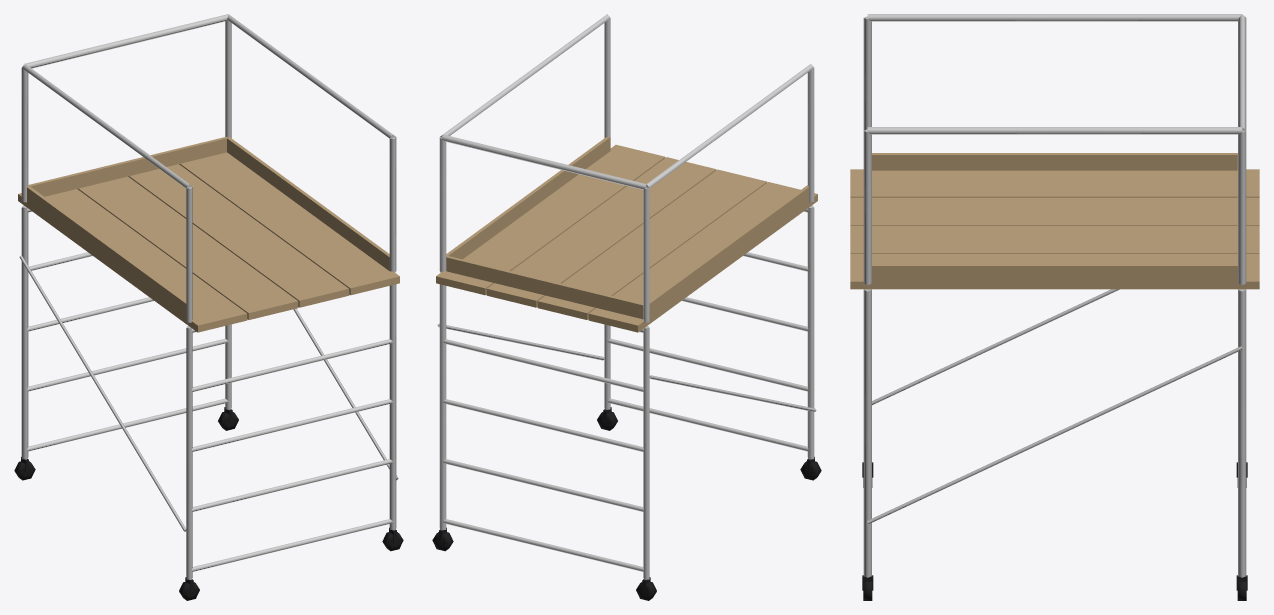
File: scaffold-tower-low.glb
3 views of the same model, side by side, from view 1: azimuth 30°, elevation 25°; view 2: azimuth 150°, elevation 25°; view 3: azimuth 270°, elevation 25° (orthographic). The views are drawn at different scales.
Parts seen in each view (by area): view 1: plank, galvanized, rubber; view 2: plank, galvanized, rubber; view 3: plank, galvanized.
Boxes of the visible parts, x1,y1,x2,y2 form: plank: (18, 137, 399, 332); galvanized: (19, 14, 398, 579); rubber: (14, 411, 403, 600); plank: (436, 137, 817, 332); galvanized: (437, 14, 816, 579); rubber: (432, 411, 821, 600); plank: (850, 153, 1259, 289); galvanized: (863, 14, 1246, 577).
Bounding box in the file's own units: 1.65 × 2.97 × 2.33.
